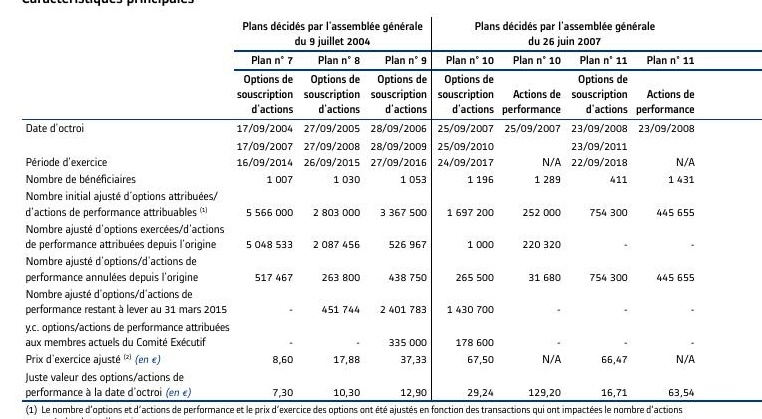table: (0, 0, 762, 419)
